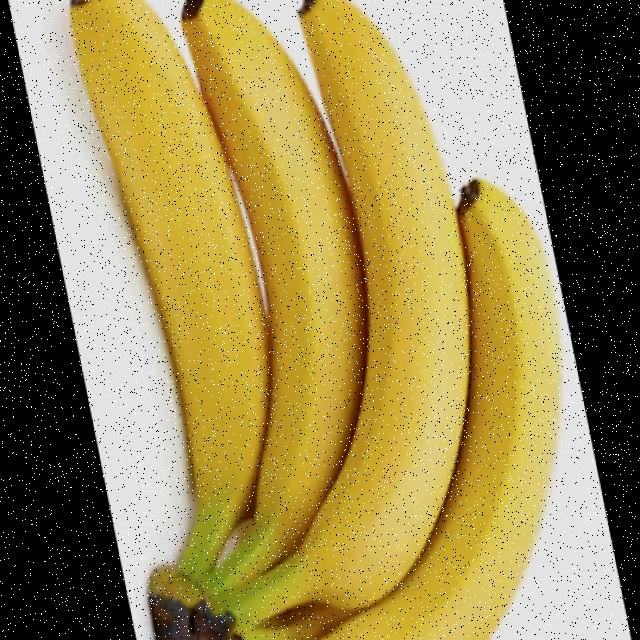god quality banana: (70, 0, 560, 638)
